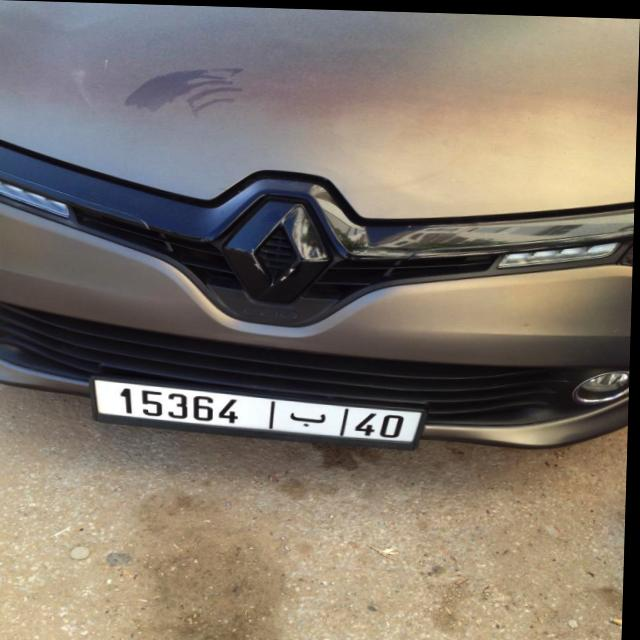License-Plate: (93, 376, 427, 446)
